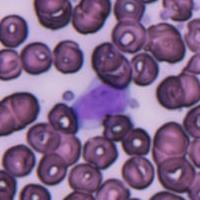L: (73, 78, 130, 124)
